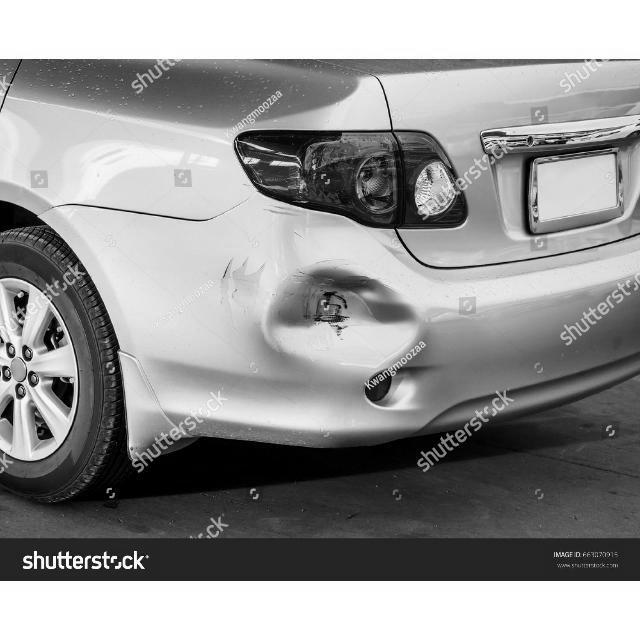rear-bumper-dent: (56, 200, 508, 460)
